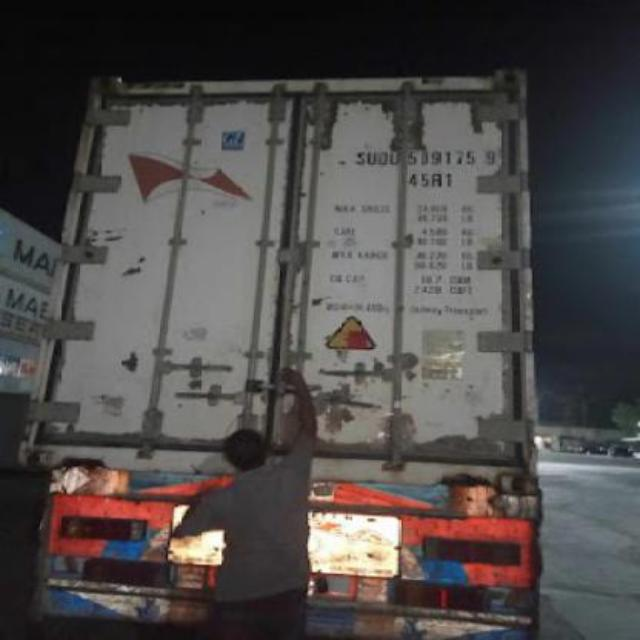0: (418, 146, 428, 166)
1: (440, 144, 452, 168)
5: (464, 146, 476, 170), (404, 146, 416, 168)
7: (452, 146, 462, 168)
9: (430, 146, 442, 170), (484, 146, 494, 170)
D: (376, 147, 388, 173)
S: (346, 143, 366, 169)
U: (366, 144, 376, 172), (388, 146, 398, 170)
